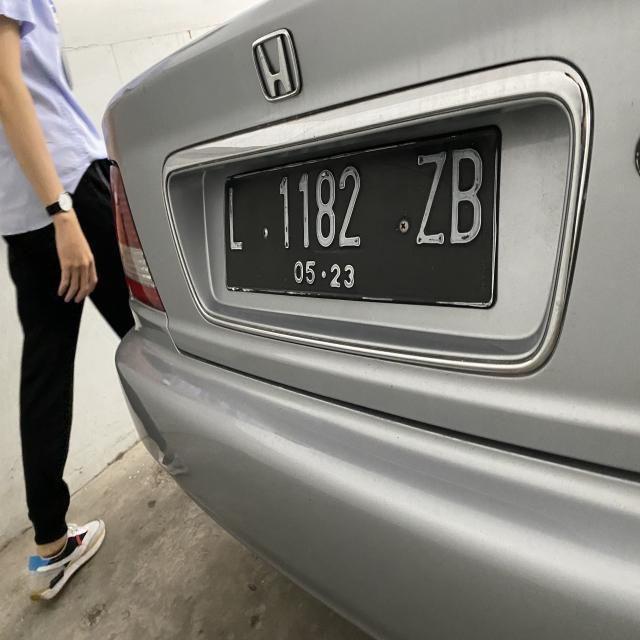1: (274, 176, 294, 256), (294, 171, 312, 257)
2: (336, 165, 364, 254)
8: (313, 169, 337, 246)
B: (450, 148, 483, 252)
L: (227, 186, 246, 254)
Z: (414, 150, 448, 252)
